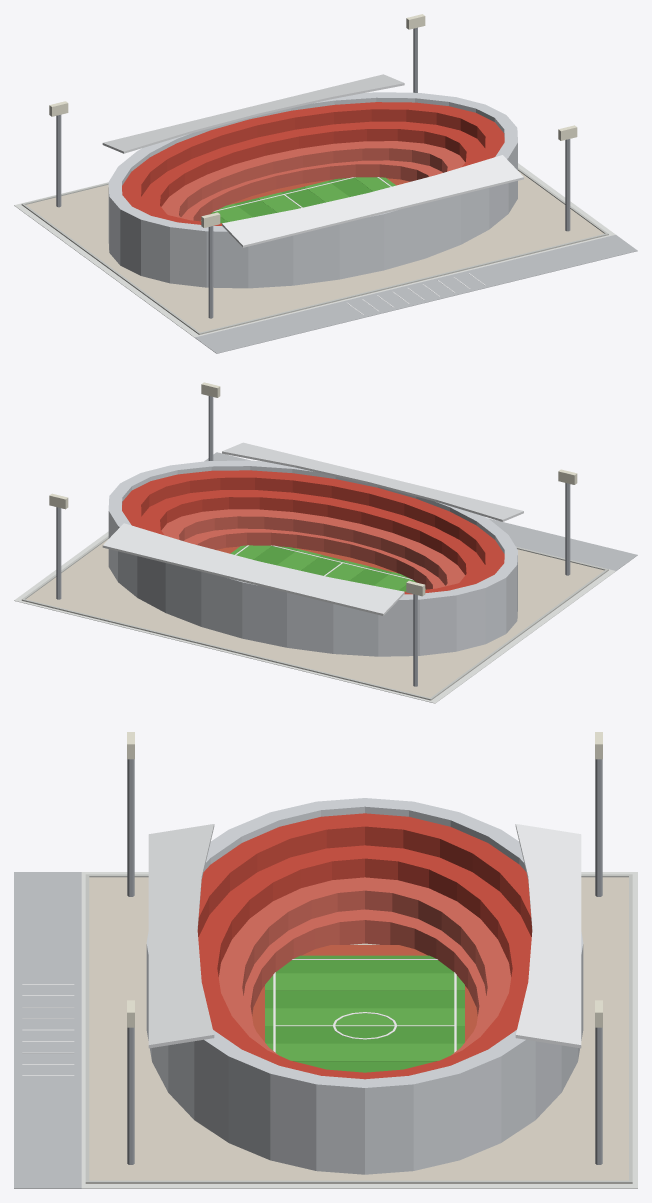
File: stadium.glb
3 renders of one model, top to bottom at view 1: azimuth 30°, elevation 25°; view 2: azimuth 150°, elevation 25°; view 3: azimuth 270°, elevation 25°, orthographic. The views are drawn at different scales.
Parts seen in each view (by area): view 1: stadium; view 2: stadium; view 3: stadium.
Boxes of the visible parts, box(x1,y1,x2,y2) form: stadium: box(14, 14, 637, 353); stadium: box(14, 382, 637, 703); stadium: box(14, 732, 637, 1188).
Bounding box in the file's own units: 72 × 16.8 × 60.
